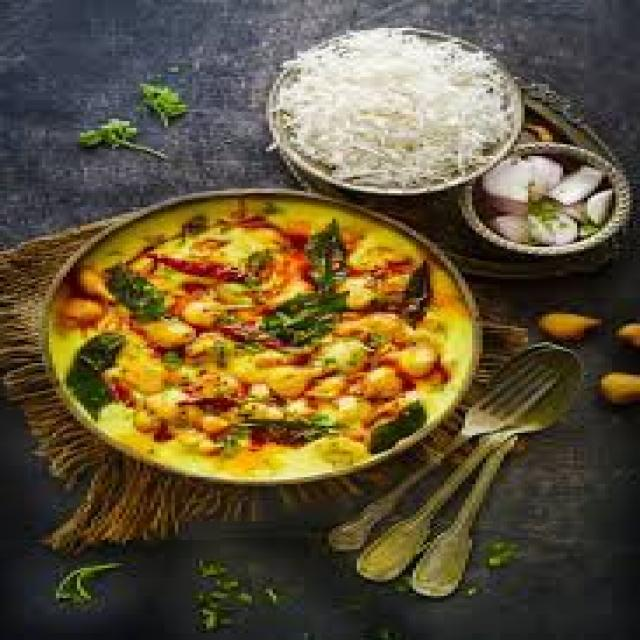Kadhi Pakora: (47, 194, 474, 481)
